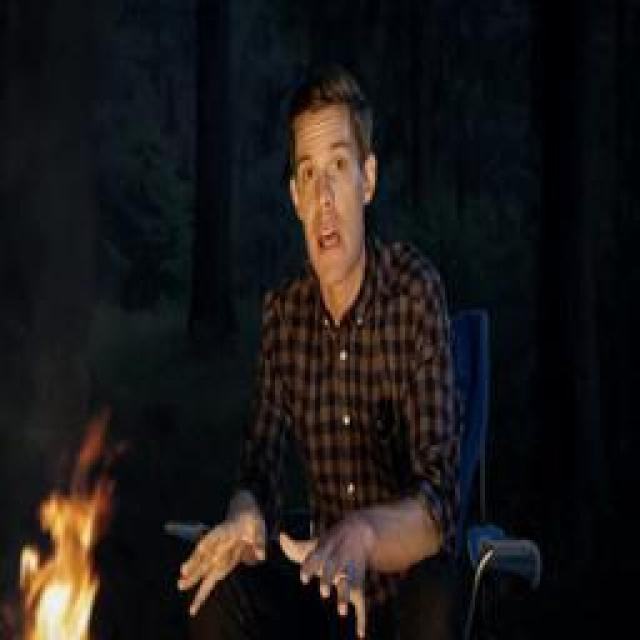Fire: (12, 412, 120, 640)
